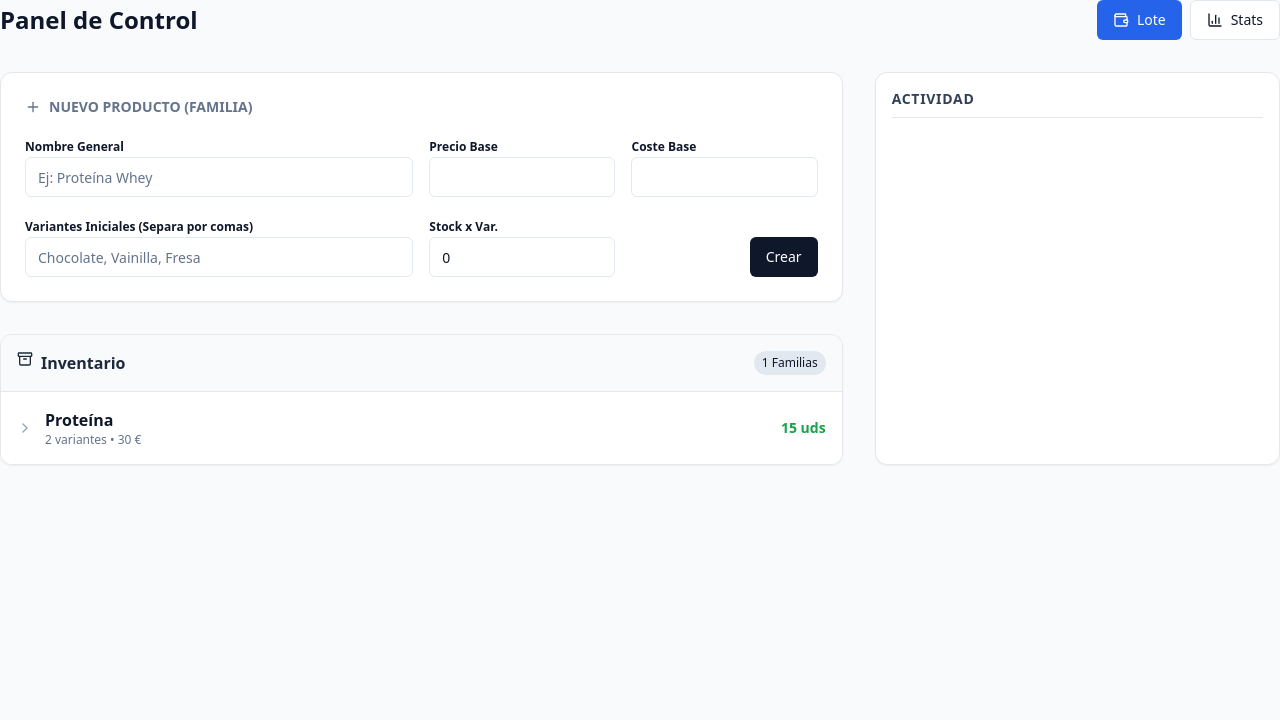
Test: AdminView Component › abre el modal de Nuevo Lote
Click the button "Lote": coordinates (1139, 20) [1097,0,1182,40]
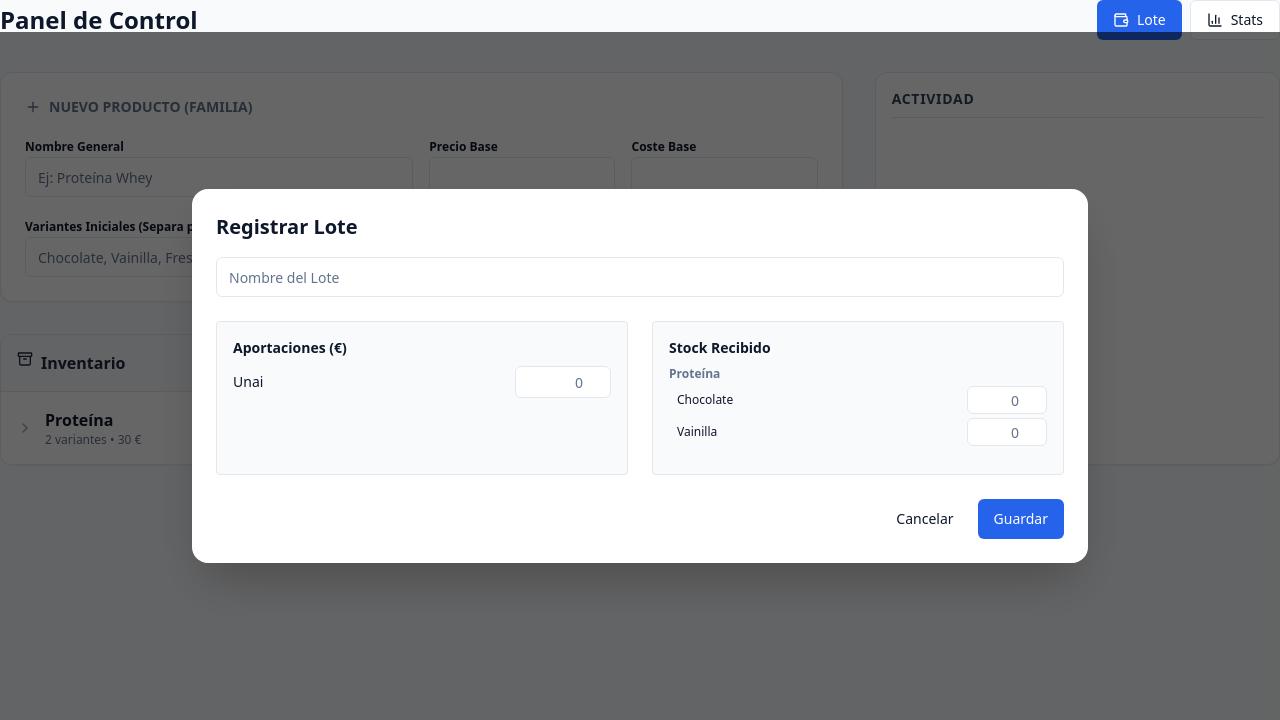
Check: the heading "Registrar Lote" is shown, box [216,213,358,240]
